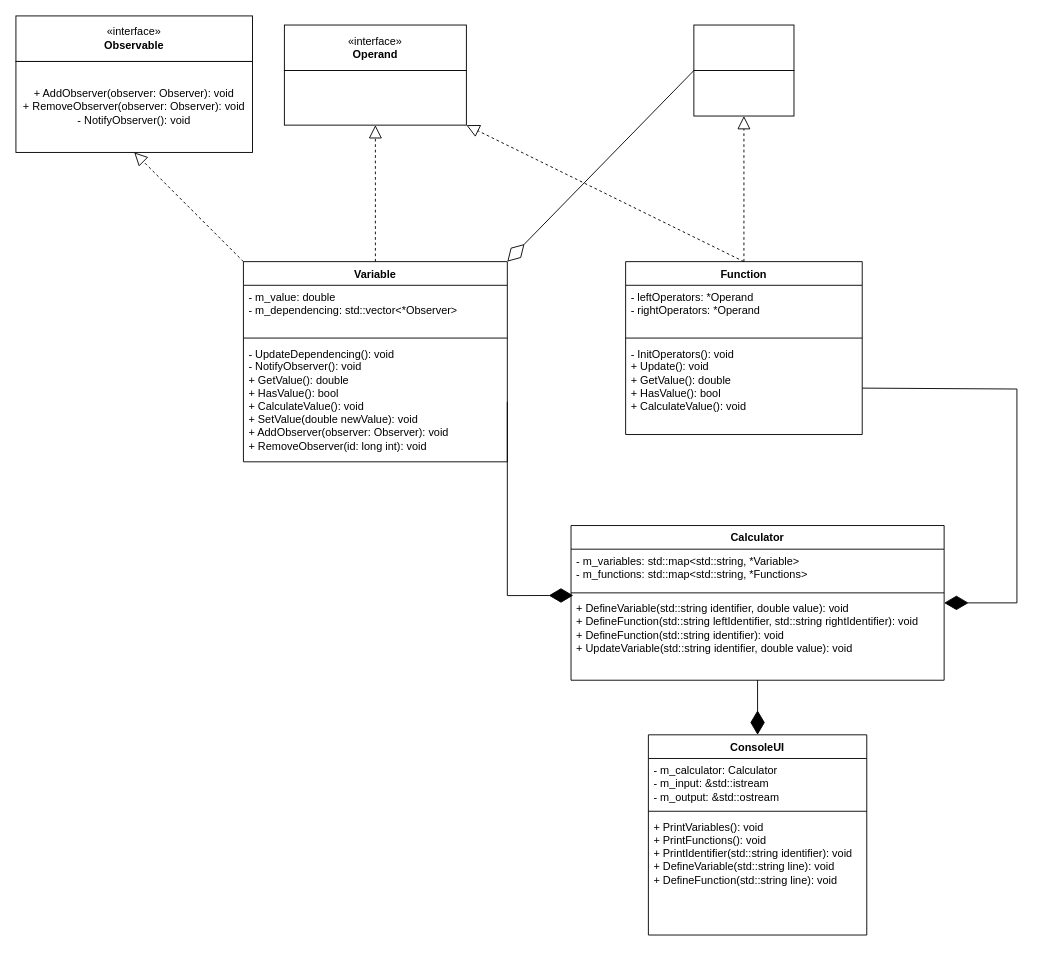
Some shapes in this 1057 by 954 pixel diagram are drawn without their labels. Each missing label, with the centre of its shape:
"+ GetValue(): double + HasValue(): bool + CalculateValue(): void" belongs at point (374, 97).
"+ Update(): void" belongs at point (743, 93).
"«interface» Observer" belongs at point (743, 47).
